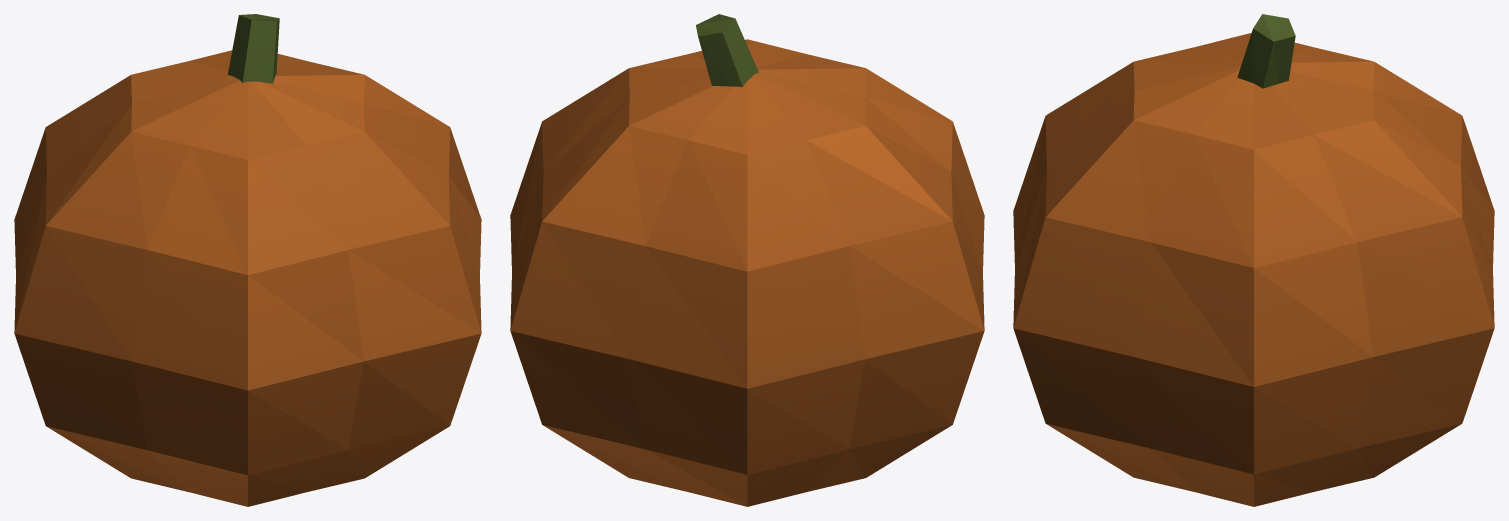
Rendered from pumpkin_3.glb.
3 renders of one model, left to right at view 1: azimuth 30°, elevation 25°; view 2: azimuth 150°, elevation 25°; view 3: azimuth 270°, elevation 25°, orthographic. The views are drawn at different scales.
Visible parts, largest first — view 1: pumpkin_3; view 2: pumpkin_3; view 3: pumpkin_3.
Part boxes in pixels (left/top/right/bottom): pumpkin_3: left=14, top=14, right=481, bottom=506; pumpkin_3: left=510, top=14, right=984, bottom=506; pumpkin_3: left=1013, top=14, right=1494, bottom=506.
Bounding box in the file's own units: 0.2928 × 0.2707 × 0.2535.
